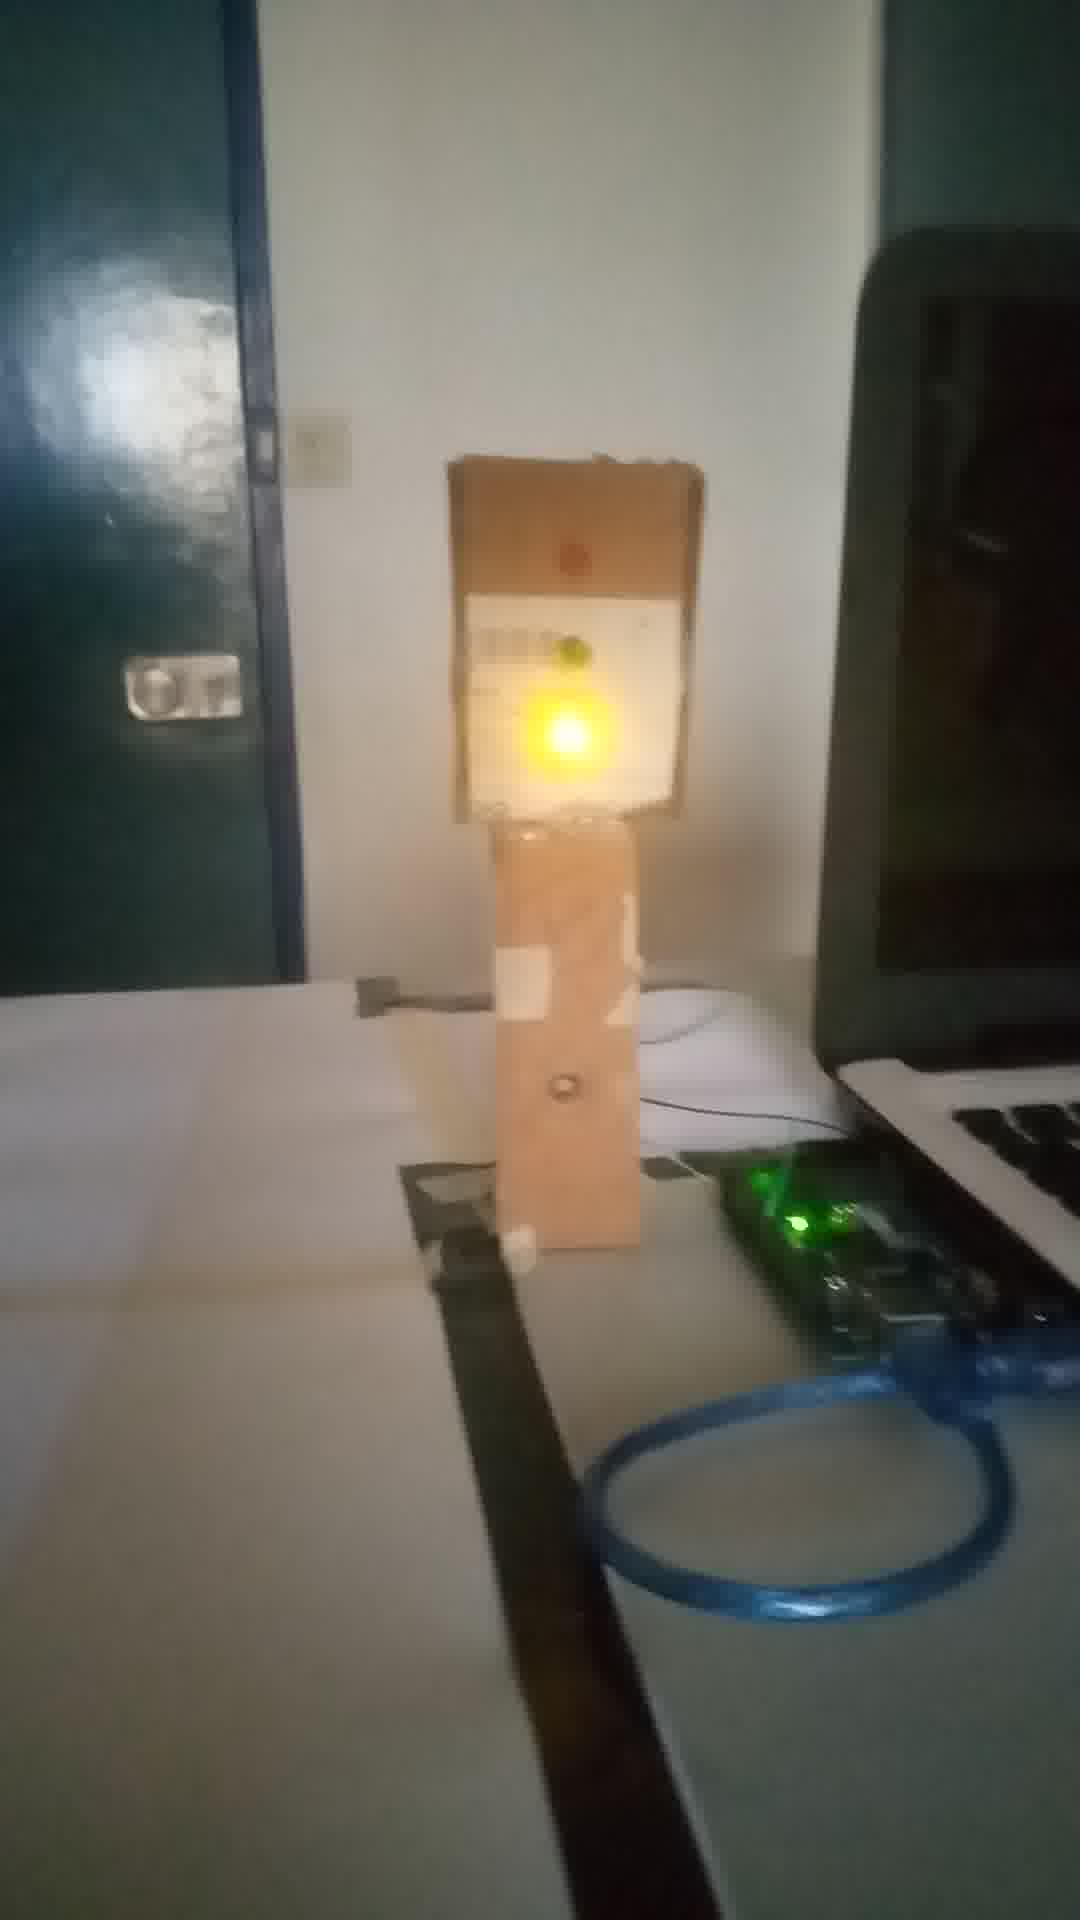green: (444, 446, 707, 823)
